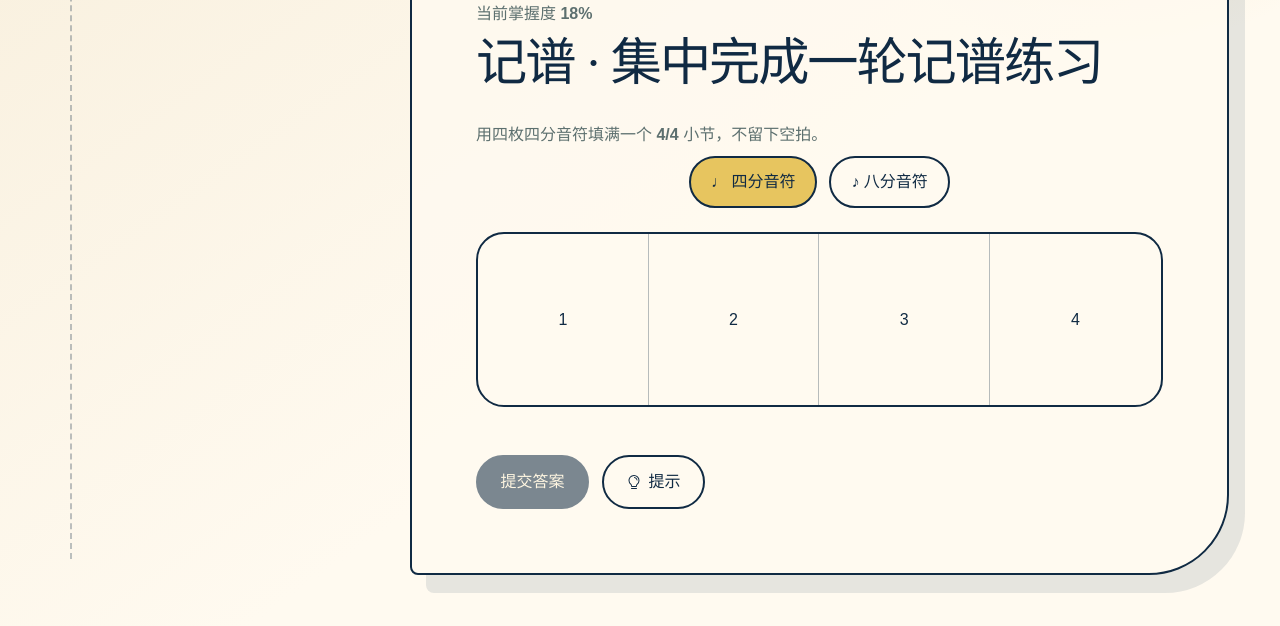
Test case: PracticePage › uses a real authored notation construction instead of the generic fallback
(page scrolled)
Expected: the element named "节奏素材" is shown, top-left (689, 156), bottom-right (950, 208)
Click the button named "第 1 拍，空": x=563, y=320 top-left (478, 234), bottom-right (649, 405)
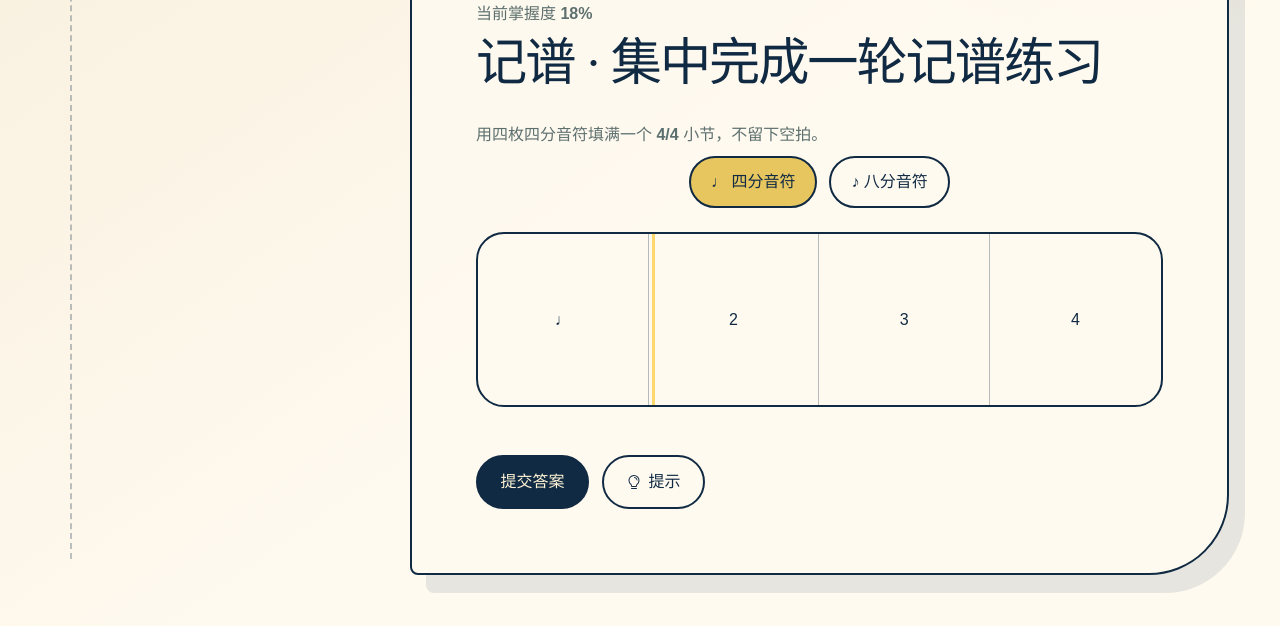
Click the button named "第 2 拍，空": x=734, y=320 top-left (649, 234), bottom-right (819, 405)
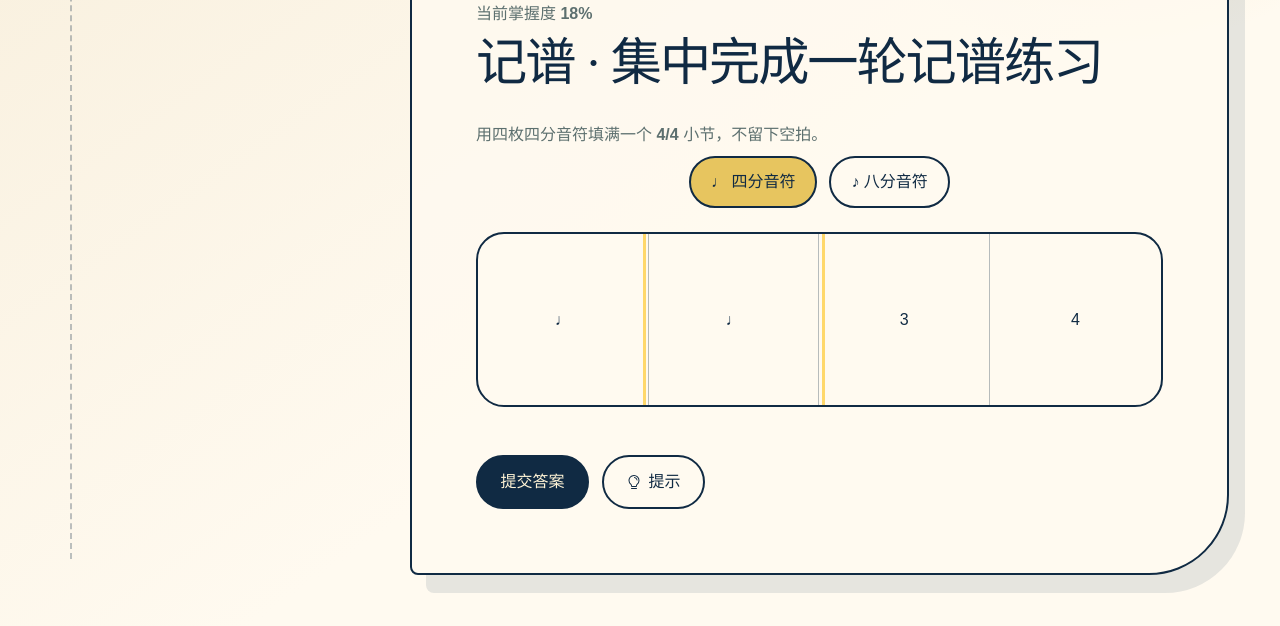
Click the button "3": x=905, y=320 top-left (819, 234), bottom-right (990, 405)
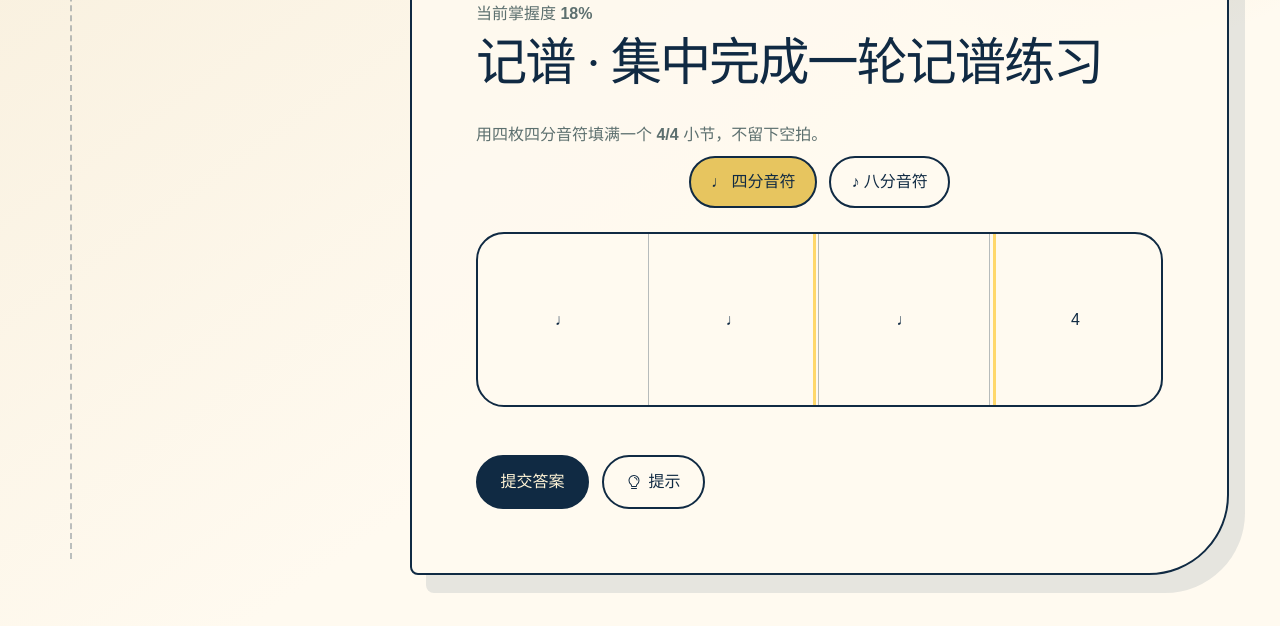
Click the button "4": x=1075, y=320 top-left (990, 234), bottom-right (1161, 405)
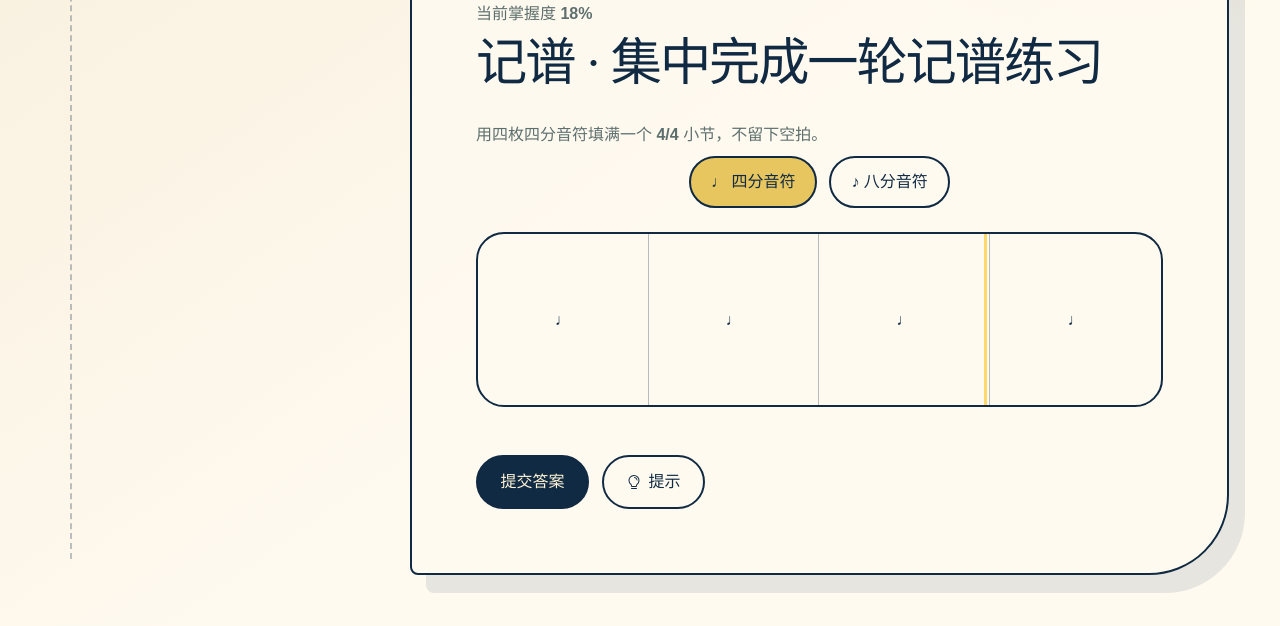
Click the button "提交答案": x=532, y=482 top-left (476, 455), bottom-right (589, 508)
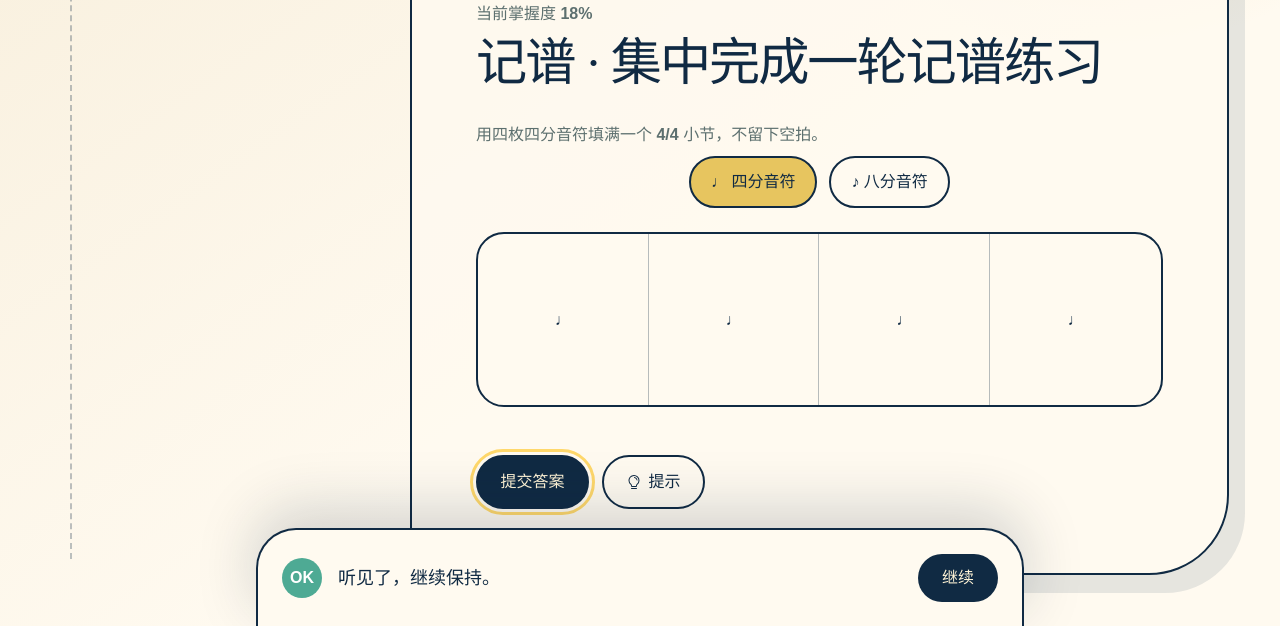
Click the button "继续": x=958, y=578 top-left (918, 554), bottom-right (998, 602)
(page scrolled)
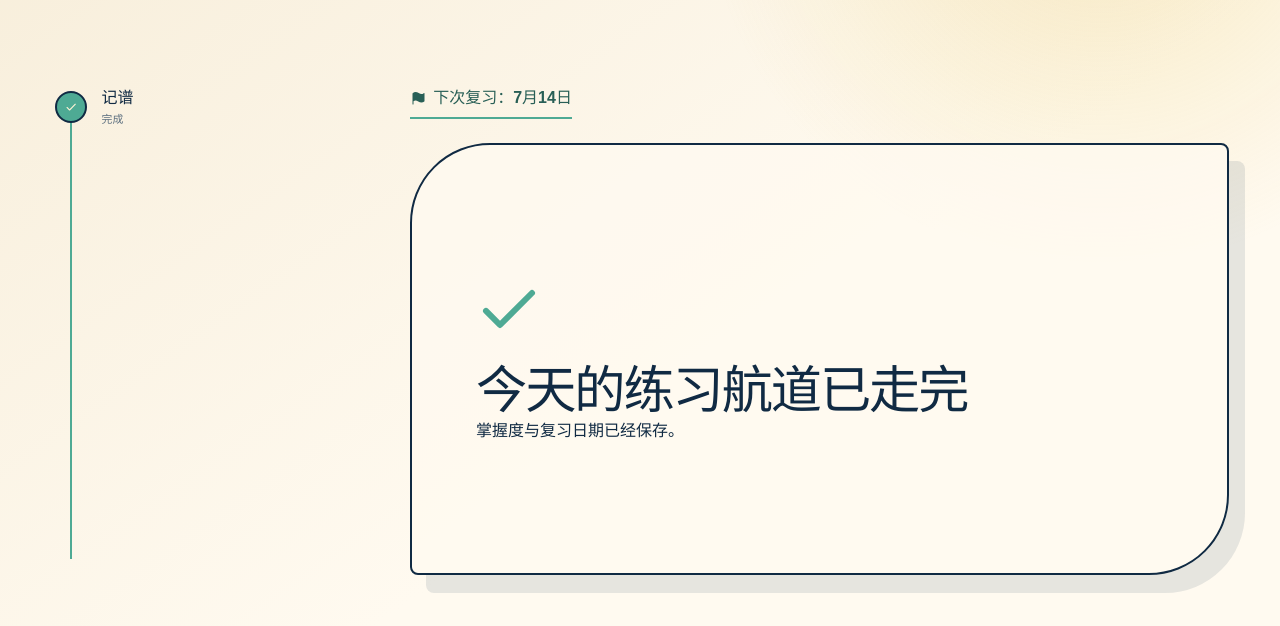
Result: the heading "今天的练习航道已走完" is shown at top-left (476, 363), bottom-right (967, 419)
